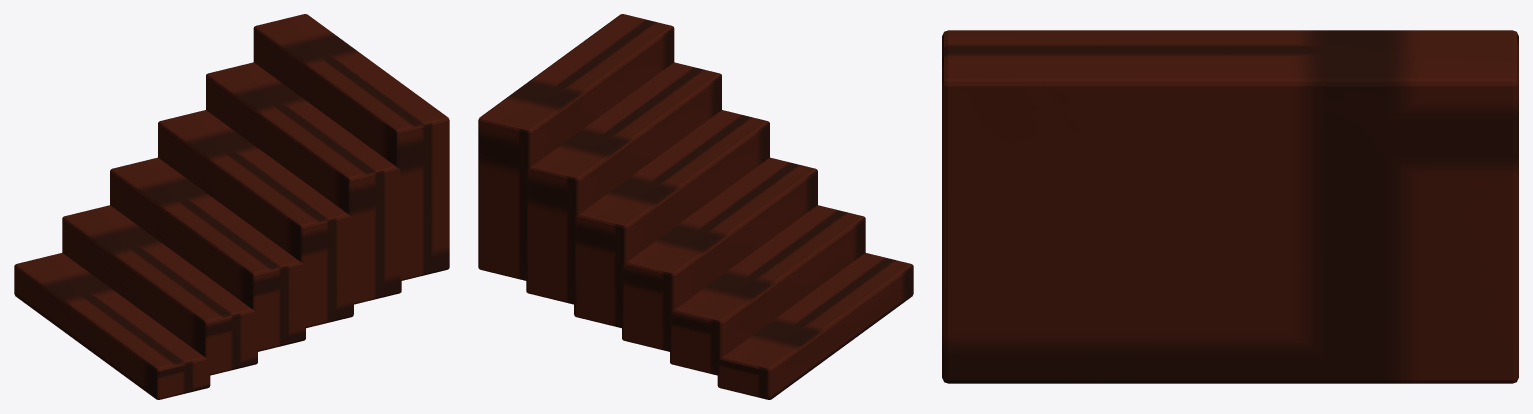
File: SM_FC_Stair_6Step.fbx
3 renders of one model, left to right at view 1: azimuth 30°, elevation 25°; view 2: azimuth 150°, elevation 25°; view 3: azimuth 270°, elevation 25°, orthographic. The views are drawn at different scales.
Parts seen in each view (by area): view 1: SM_FC_Stair_6Step; view 2: SM_FC_Stair_6Step; view 3: SM_FC_Stair_6Step.
Part boxes in pixels (x1,y1,x2,y2): SM_FC_Stair_6Step: (14,14,449,399); SM_FC_Stair_6Step: (478,14,913,399); SM_FC_Stair_6Step: (942,30,1518,383).
Size of what is drawn, in the model's own units: 2.82 by 1.95 by 2.4.
